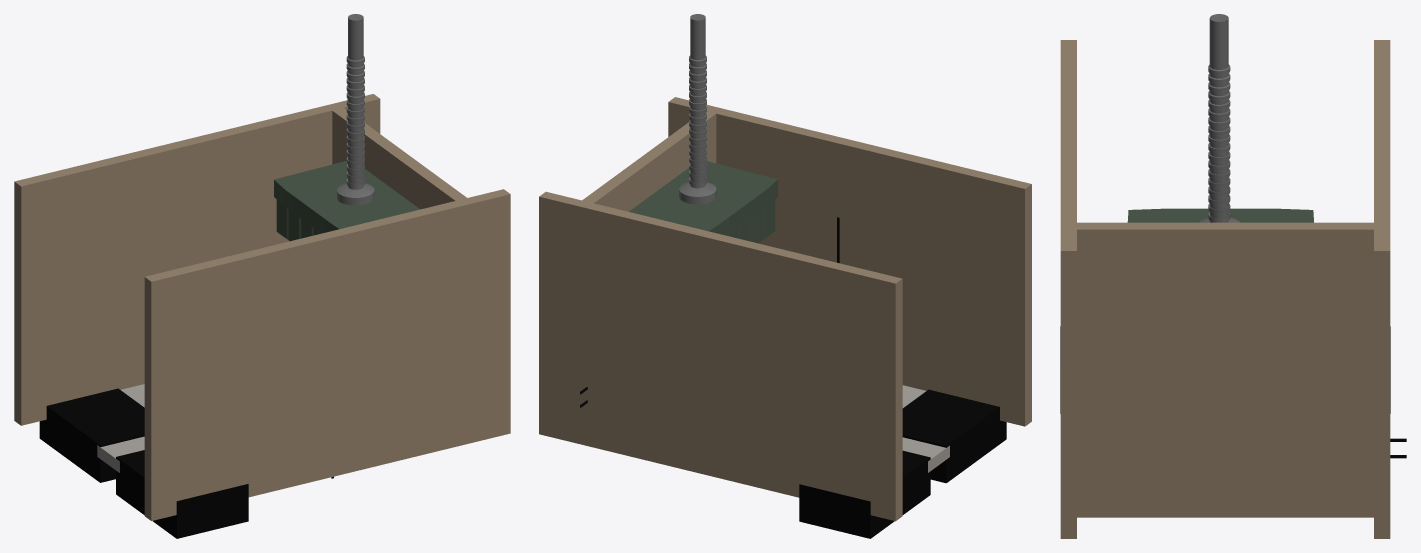
Rendered from EXTRACTION AREA.fbx.
3 renders of one model, left to right at view 1: azimuth 30°, elevation 25°; view 2: azimuth 150°, elevation 25°; view 3: azimuth 270°, elevation 25°, orthographic. The views are drawn at different scales.
Visible parts, largest first — view 1: FLOOR2, FLOOR1, EXTRACTOR, FLOOR7, FLOOR3, FLOOR8, pasted__pasted__pasted__pCylinder6, FLOOR9, pasted__pasted__pasted__pCylinder7; view 2: FLOOR1, FLOOR2, EXTRACTOR, FLOOR8, FLOOR7, FLOOR3, pasted__pasted__pasted__pCylinder6, FLOOR9, pasted__pasted__pasted__pCylinder7; view 3: FLOOR3, FLOOR2, FLOOR1, pasted__pasted__pasted__pCylinder6, EXTRACTOR.
Boxes of the visible parts, box(x1,y1,x2,y2) form: FLOOR2: box(144, 189, 510, 520); FLOOR1: box(14, 94, 380, 425); EXTRACTOR: box(274, 161, 419, 241); FLOOR7: box(39, 388, 144, 482); FLOOR3: box(326, 103, 473, 209); FLOOR8: box(116, 450, 248, 538); pasted__pasted__pasted__pCylinder6: box(346, 14, 364, 189); FLOOR9: box(97, 436, 144, 472); pasted__pasted__pasted__pCylinder7: box(336, 183, 374, 205); FLOOR1: box(539, 191, 902, 521); FLOOR2: box(668, 97, 1031, 426); EXTRACTOR: box(629, 161, 777, 243); FLOOR8: box(902, 389, 1006, 483); FLOOR7: box(799, 450, 930, 538); FLOOR3: box(582, 106, 720, 211); pasted__pasted__pasted__pCylinder6: box(689, 14, 706, 188); FLOOR9: box(902, 437, 949, 472); pasted__pasted__pasted__pCylinder7: box(679, 182, 716, 204); FLOOR3: box(1061, 222, 1388, 517); FLOOR2: box(1060, 40, 1076, 538); FLOOR1: box(1374, 40, 1390, 538); pasted__pasted__pasted__pCylinder6: box(1208, 14, 1230, 222); EXTRACTOR: box(1127, 208, 1313, 222).
Bounding box in the file's own units: 177 × 194 × 123.
